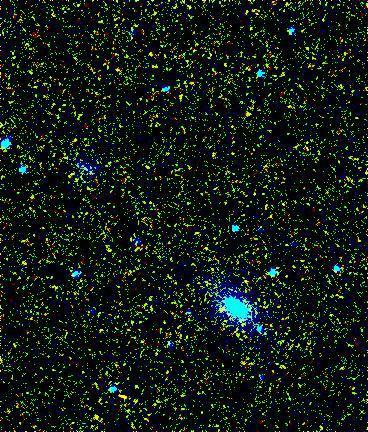star: (206, 293, 236, 323)
